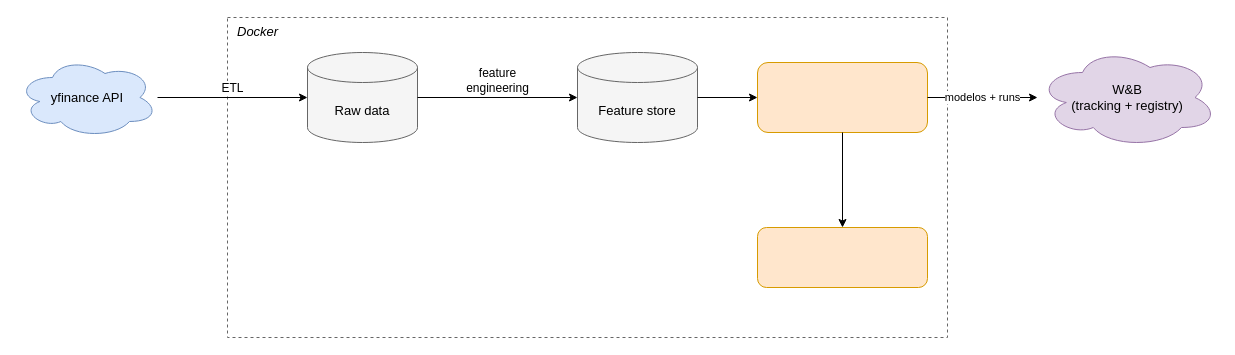
Some shapes in this 1235 by 355 pixel diagram are drawn without their labels. The centre of each missing label's shape, as x and y in pixels:
"Entrenamiento (train + val, walk-forward)" belongs at (842,97).
"Evaluación (test OOS)" belongs at (842,257).
